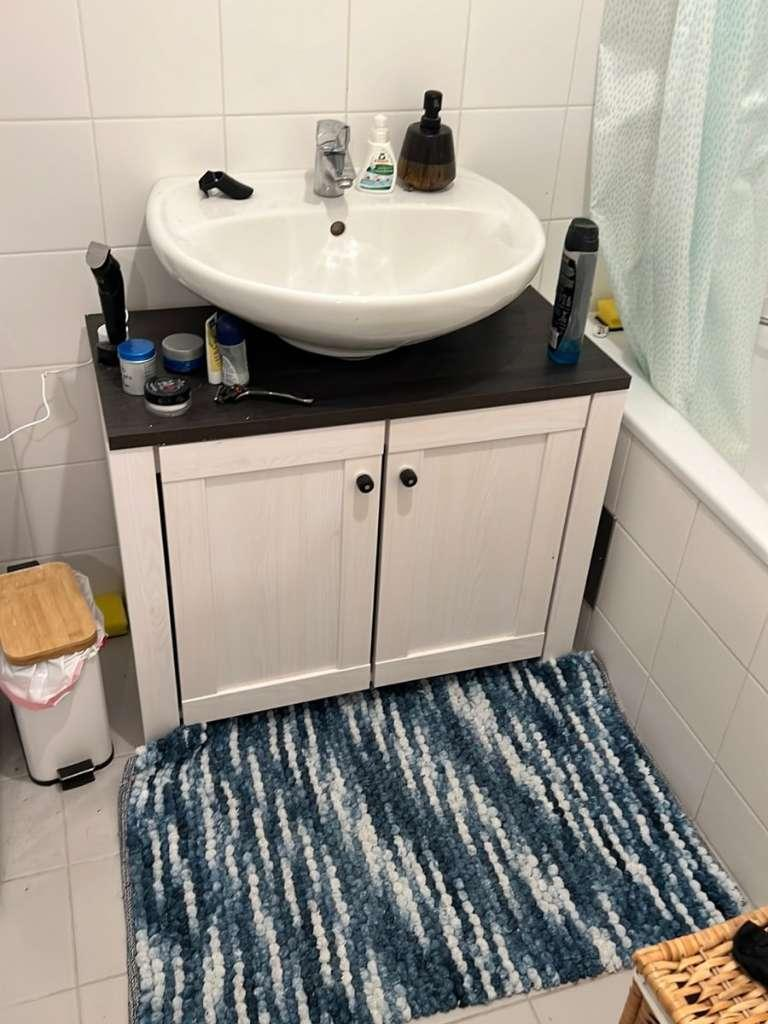cabinet_door: (180, 447, 381, 685), (384, 422, 567, 655)
handle: (353, 463, 379, 502), (398, 461, 423, 497)
